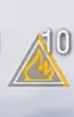1fire: (4, 59, 71, 88)
